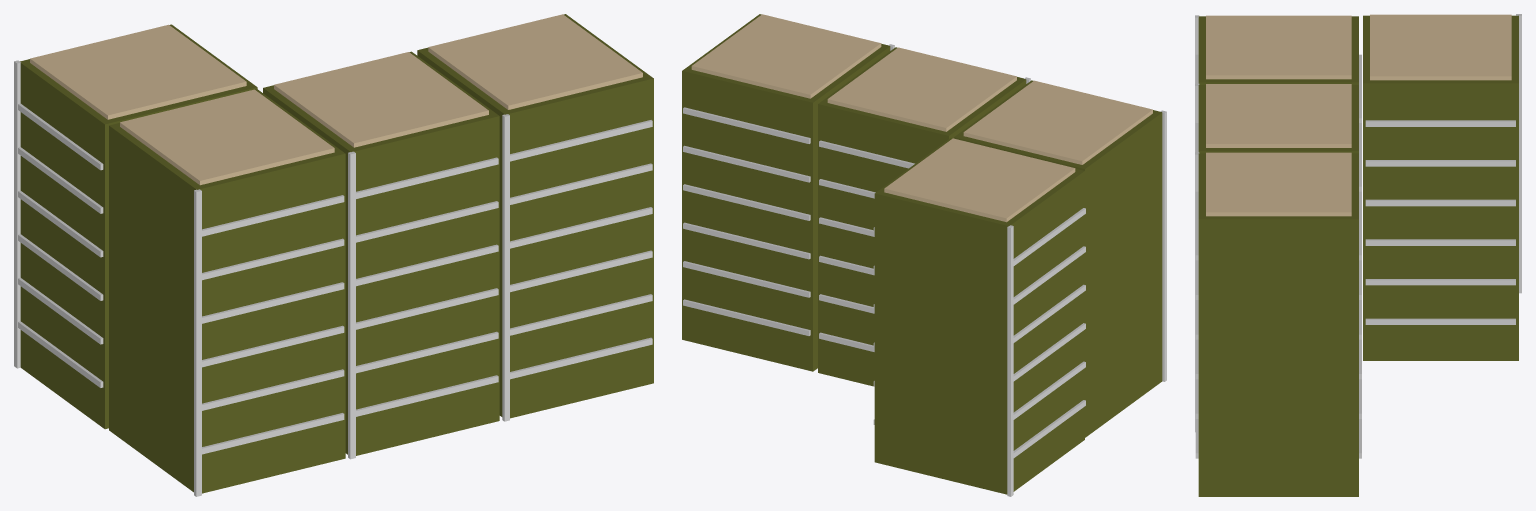
Rendered from SM_HescoRemate_v1_Geotextil_e0_Sano_LOD0.fbx.
3 renders of one model, left to right at view 1: azimuth 30°, elevation 25°; view 2: azimuth 150°, elevation 25°; view 3: azimuth 270°, elevation 25°, orthographic. The views are drawn at different scales.
Visible parts, largest first — view 1: SM_hesco_piezas_v24_LOD0; view 2: SM_hesco_piezas_v24_LOD0; view 3: SM_hesco_piezas_v24_LOD0.
Part boxes in pixels (x1,y1,x2,y2): SM_hesco_piezas_v24_LOD0: [14, 14, 653, 496]; SM_hesco_piezas_v24_LOD0: [682, 14, 1166, 496]; SM_hesco_piezas_v24_LOD0: [1195, 14, 1521, 496].
Size of the model in its own units: 3.33 by 2.13 by 2.24.
